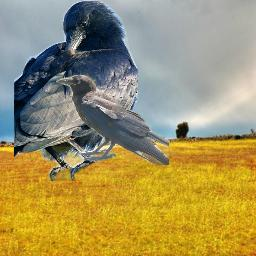Crow: (14, 0, 138, 181), (56, 75, 169, 165)
